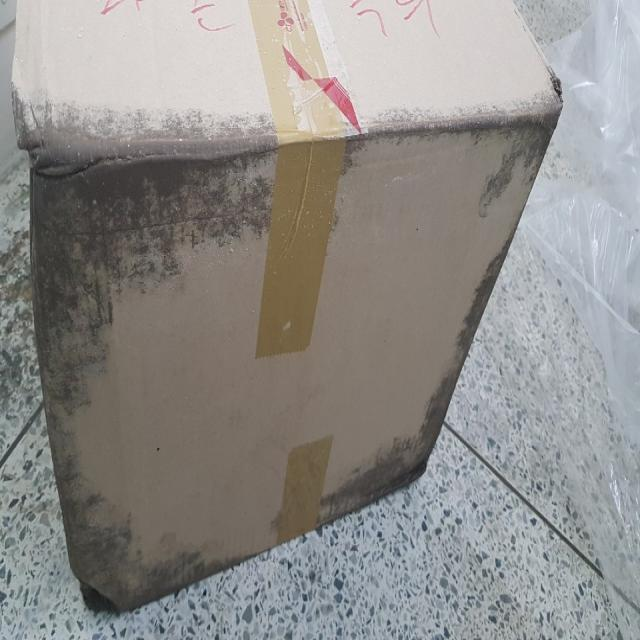wet: (22, 96, 270, 362), (54, 469, 195, 611), (353, 406, 451, 512), (487, 84, 570, 174)
